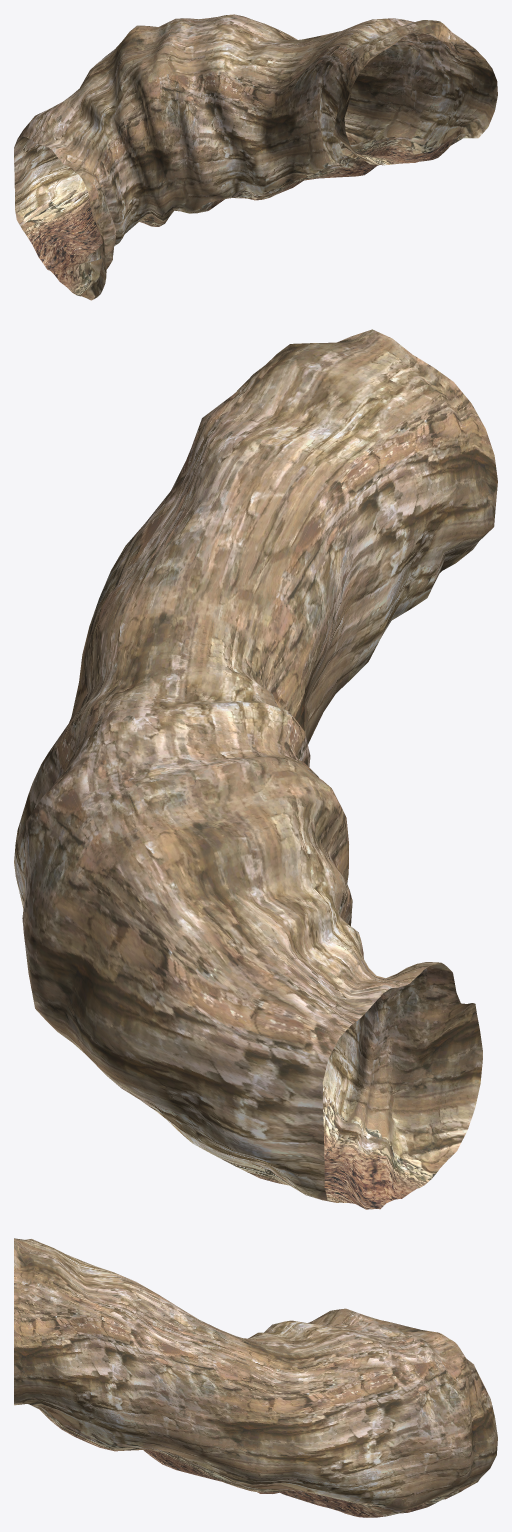
The model's file is thm_tato_cave_s01_r21_mesh_r21.fbx.
3 renders of one model, top to bottom at view 1: azimuth 30°, elevation 25°; view 2: azimuth 150°, elevation 25°; view 3: azimuth 270°, elevation 25°, orthographic. The views are drawn at different scales.
Visible parts, largest first — view 1: mesh_node; view 2: mesh_node; view 3: mesh_node.
Boxes of the visible parts, <box> form: mesh_node: <box>14,14,497,300</box>; mesh_node: <box>14,329,497,1209</box>; mesh_node: <box>14,1238,497,1517</box>.
Bounding box in the file's own units: 22.44 × 26.52 × 32.93.
